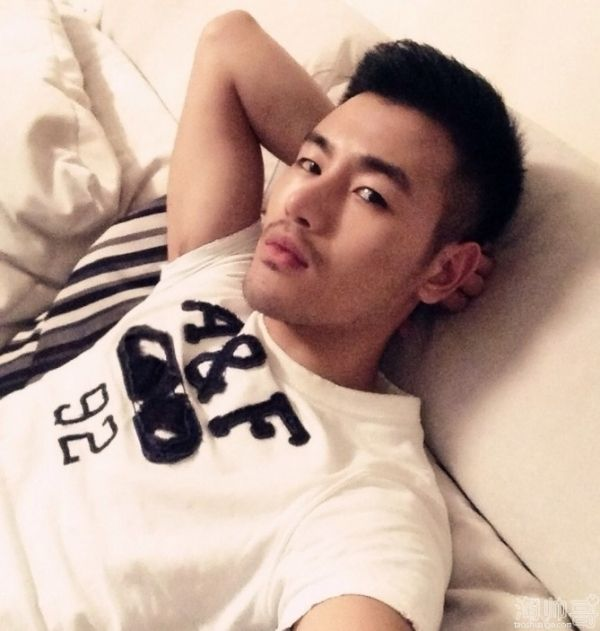person: (182, 16, 503, 631)
